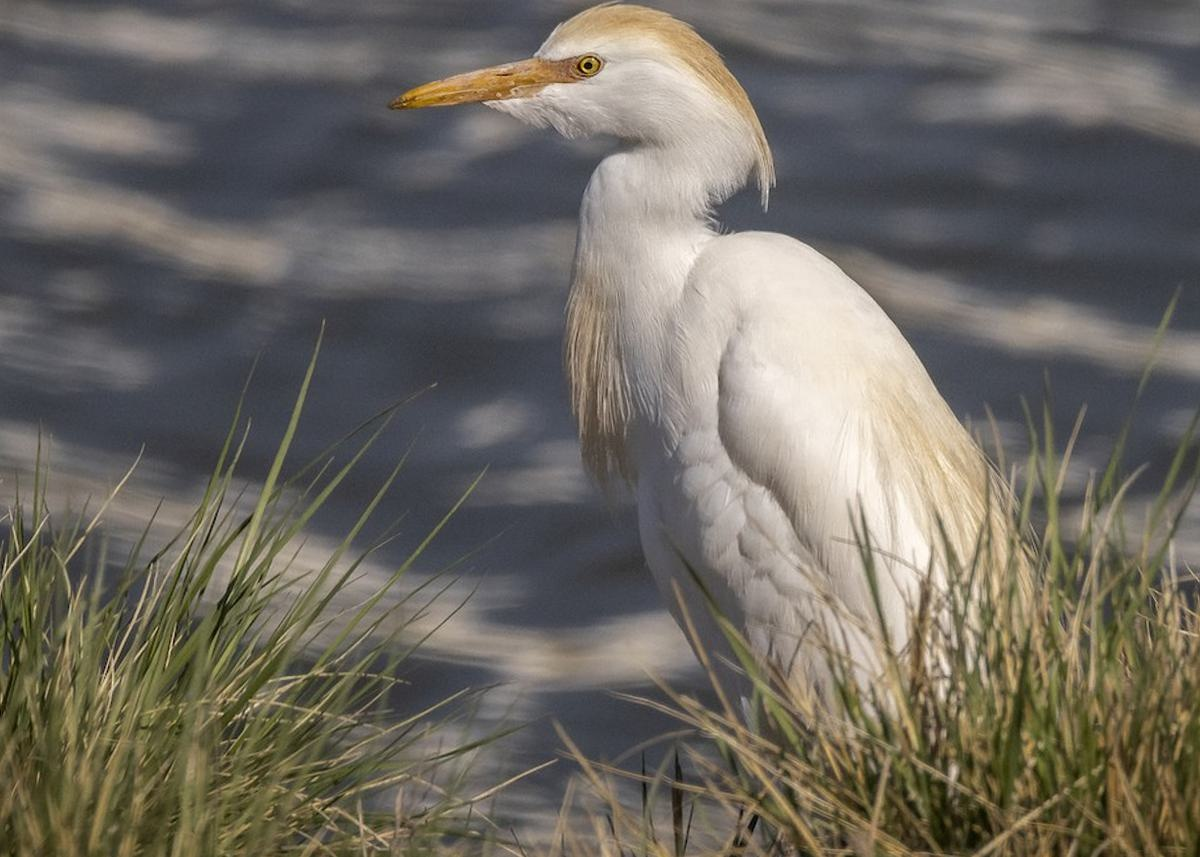egret: (388, 6, 1051, 742)
